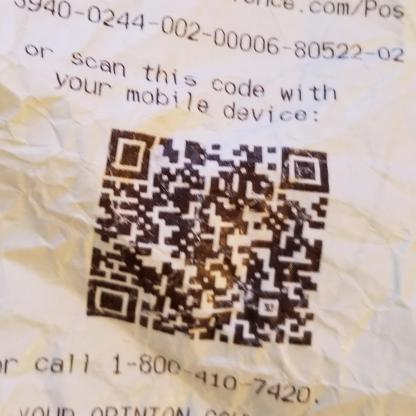qr: (81, 123, 339, 356)
